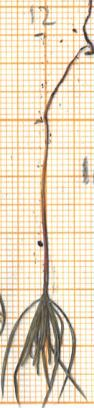flower: (0, 295, 89, 408)
root: (39, 0, 94, 119)
stem: (38, 122, 55, 291)
